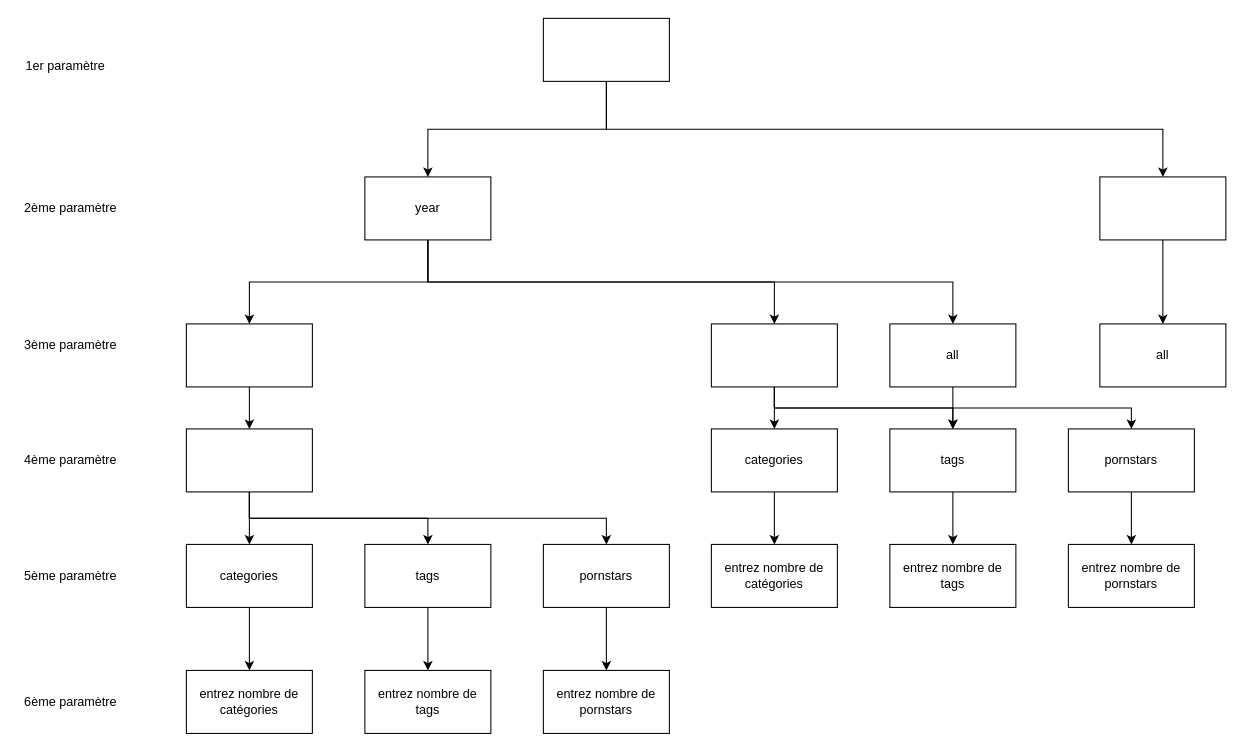
Some shapes in this 1244 by 752 pixel diagram are drawn without their labels. Each missing label, with the centre of its shape:
date de début aaaa mm/aaaa jj/mm/aaaa: the point at 248,355
date de fin aaaa mm/aaaa jj/mm/aaaa: the point at 248,460
evolution: the point at 605,49
month: the point at 1162,208
n année: the point at 773,355
